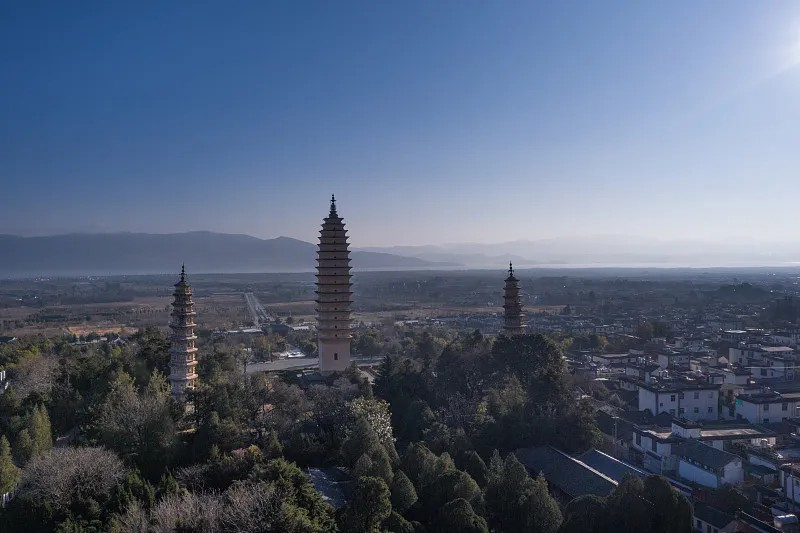ThreePagoda: (314, 195, 354, 373)
